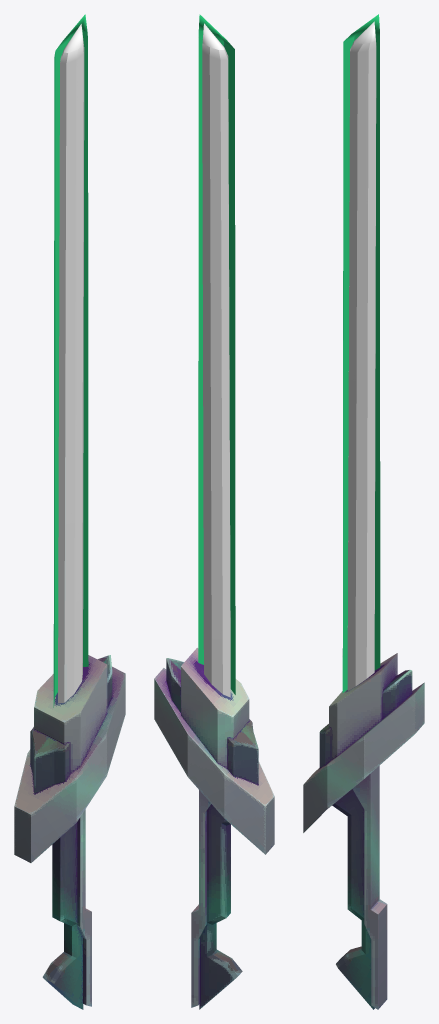
File: item_energy_sword_green.glb
3 renders of one model, left to right at view 1: azimuth 30°, elevation 25°; view 2: azimuth 150°, elevation 25°; view 3: azimuth 330°, elevation 25°, orthographic.
Parts seen in each view (by area): view 1: Sword_Light_Saber, Sword_Light; view 2: Sword_Light_Saber, Sword_Light; view 3: Sword_Light_Saber, Sword_Light.
Boxes of the visible parts, bbox=[...] form: Sword_Light_Saber: bbox=[53, 14, 88, 707]; Sword_Light: bbox=[14, 655, 125, 1009]; Sword_Light_Saber: bbox=[198, 14, 235, 697]; Sword_Light: bbox=[154, 647, 274, 1009]; Sword_Light_Saber: bbox=[342, 14, 380, 692]; Sword_Light: bbox=[303, 653, 424, 1009].
Size of the model in its own units: 0.1326 by 1.18 by 0.0889.
Materials: 1 (1 with a texture image).
